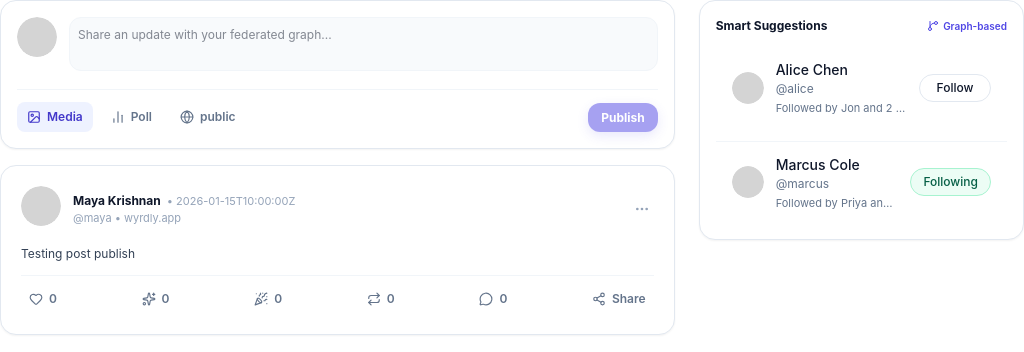
it: FeedPage Component › reactions (#123) › LOVE → CELEBRATE → LOVE does not inflate the previous counter
Expected: the element with test id "post-card-post-1" is shown, [0, 165, 675, 335]
Click the button with test id "love-btn" at (156, 299), box [134, 284, 178, 314]
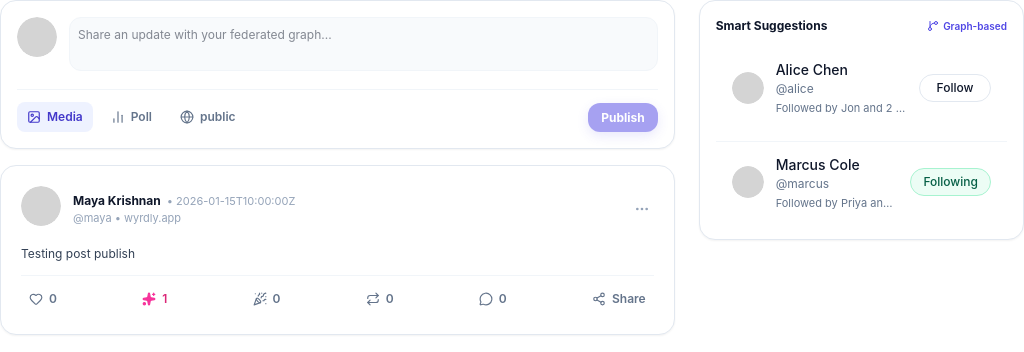
Click the button with test id "celebrate-btn" at (266, 299), box [244, 284, 288, 314]
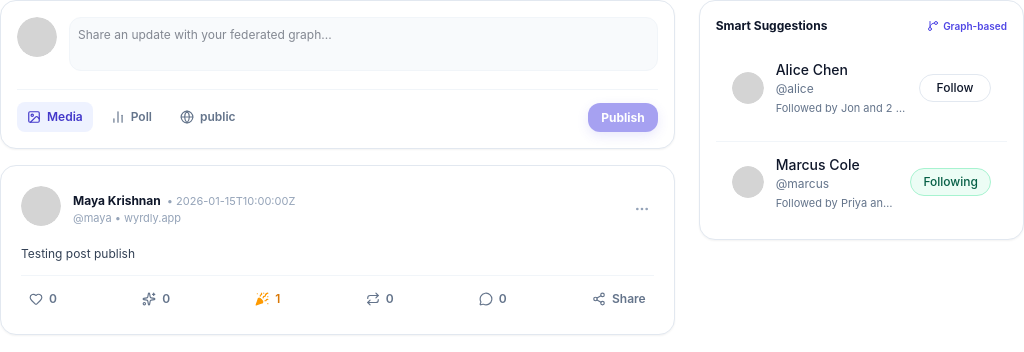
Click the button with test id "love-btn" at (156, 299), box [134, 284, 178, 314]
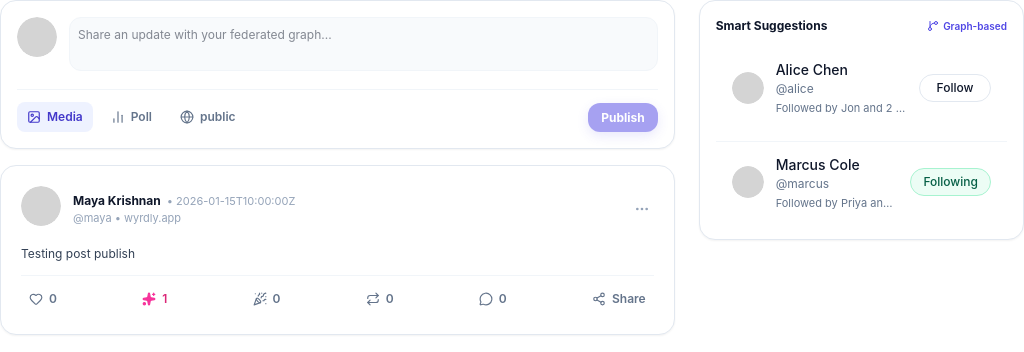
Expected: the button with test id "like-btn" reads "0", [21, 284, 65, 314]
Result: the button with test id "love-btn" reads "1" at [134, 284, 175, 314]
Result: the button with test id "celebrate-btn" reads "0" at [244, 284, 288, 314]
